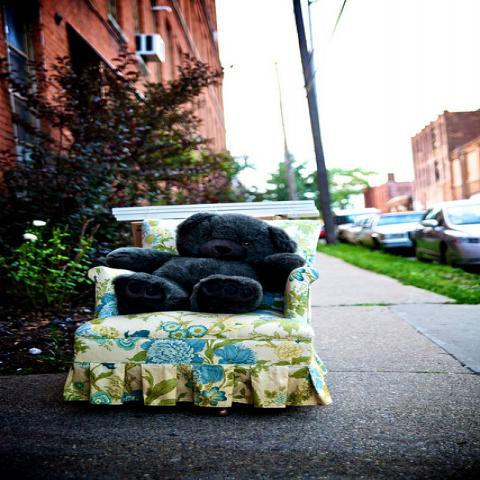car: (406, 199, 479, 267), (353, 212, 426, 249)
